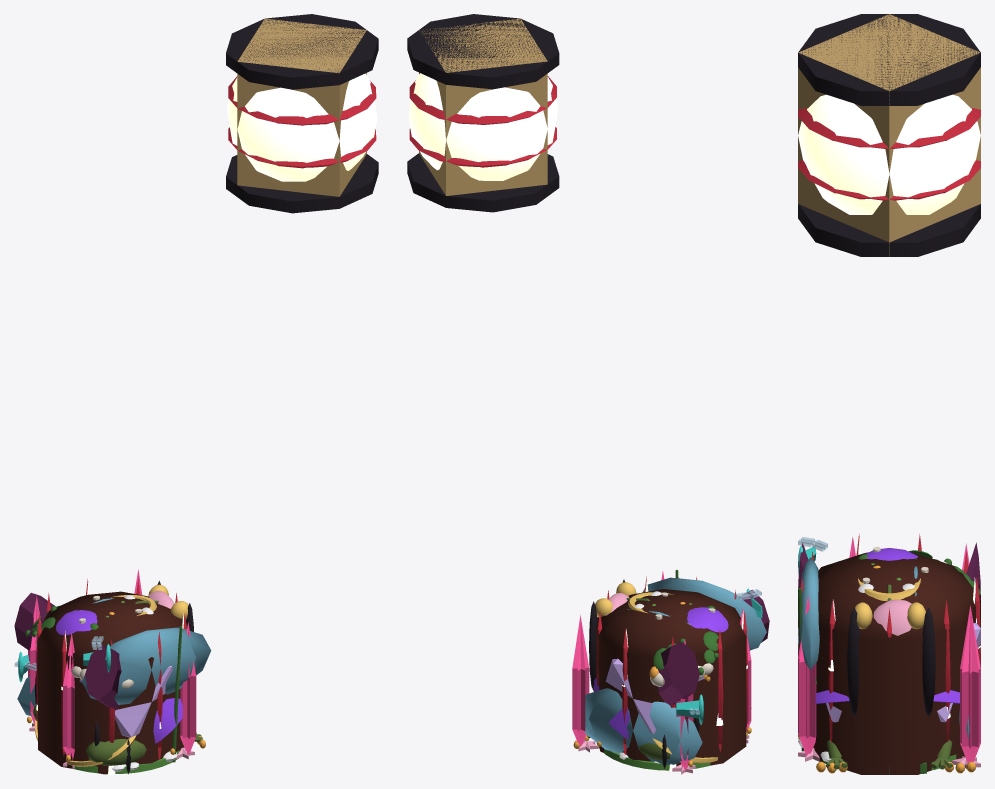
Rendered from maitre-marais.glb.
3 views of the same model, side by side, from view 1: azimuth 30°, elevation 25°; view 2: azimuth 150°, elevation 25°; view 3: azimuth 270°, elevation 25° (orthographic). The views are drawn at different scales.
Visible parts, largest first — view 1: maitre_marais_corps, maitre_marais_lanterne, maitre_marais_libellules; view 2: maitre_marais_corps, maitre_marais_lanterne, maitre_marais_libellules; view 3: maitre_marais_lanterne, maitre_marais_corps, maitre_marais_libellules.
Part boxes in pixels (box(x1,y1,x2,y2)): maitre_marais_corps: box(14, 569, 211, 774); maitre_marais_lanterne: box(226, 14, 378, 213); maitre_marais_libellules: box(14, 636, 110, 682); maitre_marais_corps: box(572, 570, 769, 774); maitre_marais_lanterne: box(407, 14, 559, 212); maitre_marais_libellules: box(676, 588, 762, 724); maitre_marais_lanterne: box(798, 14, 980, 256); maitre_marais_corps: box(798, 534, 980, 774); maitre_marais_libellules: box(798, 537, 827, 574).
Bounding box in the file's own units: 4.9 × 9.6 × 2.
